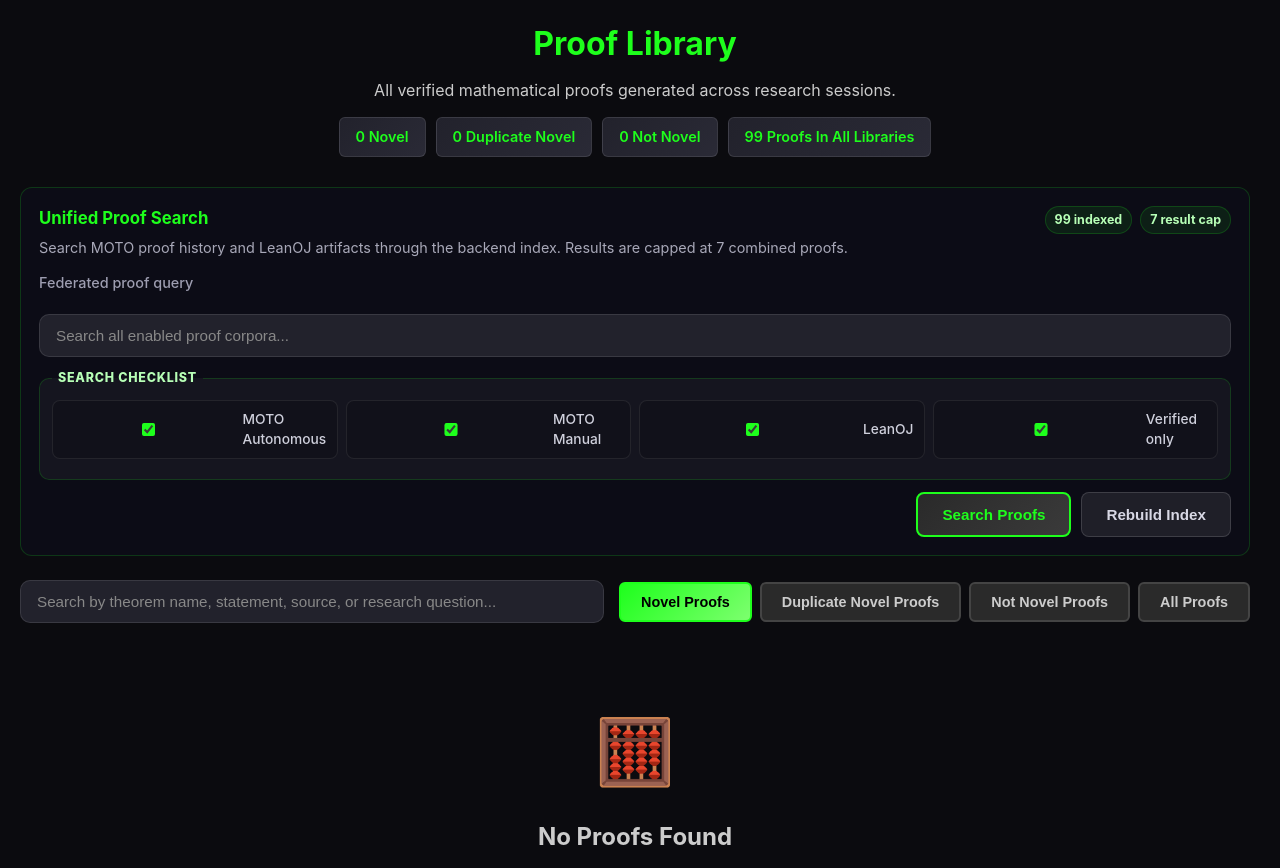
rebuilds the unified proof-search index from the frontend
The width and height of the screenshot is (1280, 868).
Expected: the heading "Unified Proof Search" is shown, x1=39 y1=208 x2=208 y2=228
Click the button "Rebuild Index" at (1156, 514), box x1=1081 y1=492 x2=1231 y2=537
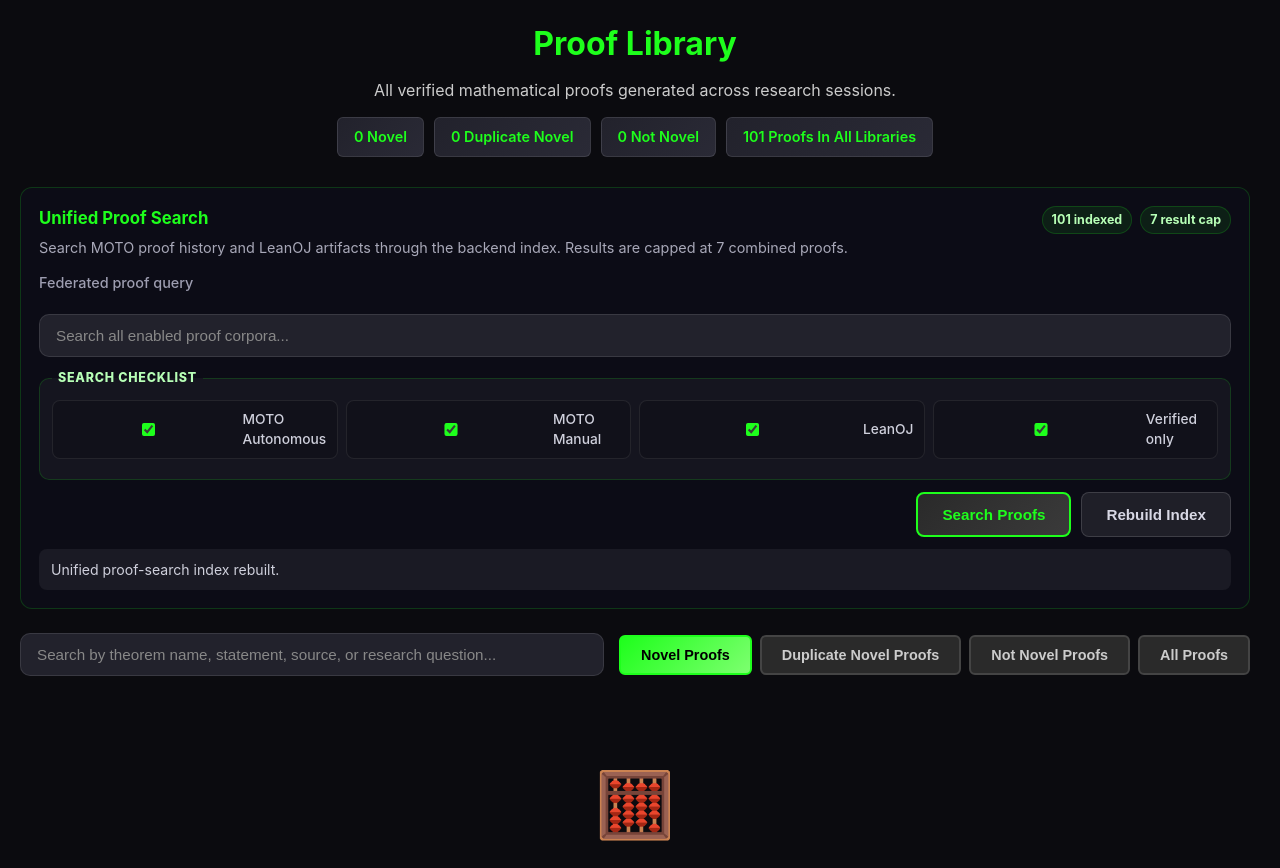
Expected: the text "Unified proof-search index rebuilt." is shown, x1=39 y1=549 x2=1231 y2=590
Expected: the text "101 indexed" is shown, x1=1042 y1=206 x2=1132 y2=234
